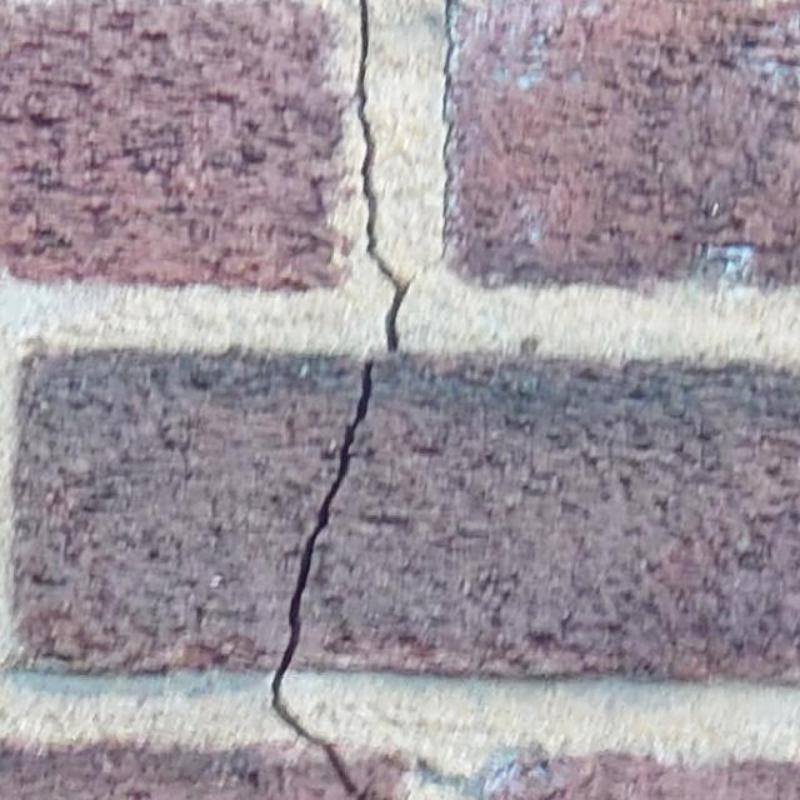pothole: (272, 359, 372, 793), (355, 0, 414, 352), (440, 0, 456, 260)
